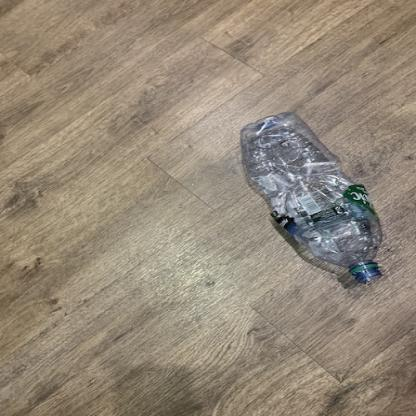trash: (235, 111, 386, 288)
